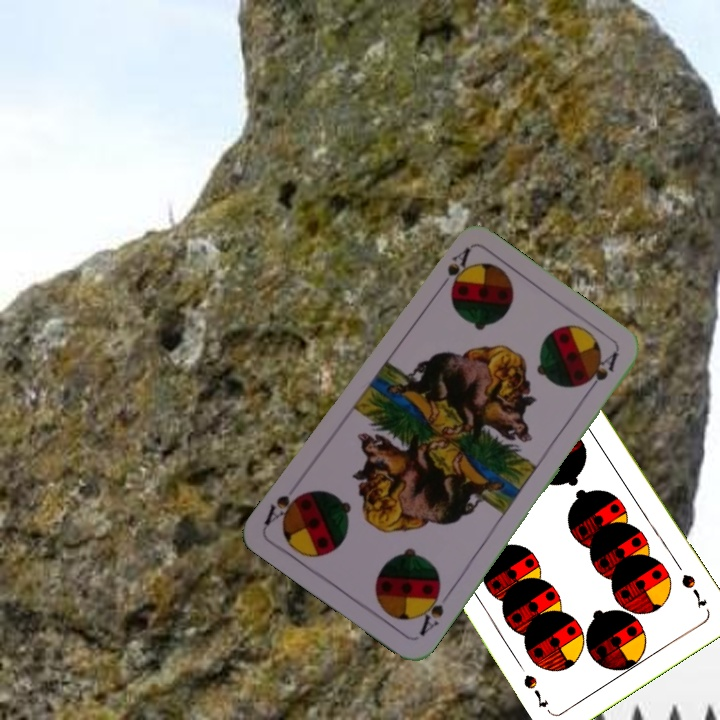S7: (677, 570, 710, 612)
SA: (414, 582, 452, 639), (434, 244, 473, 296)
